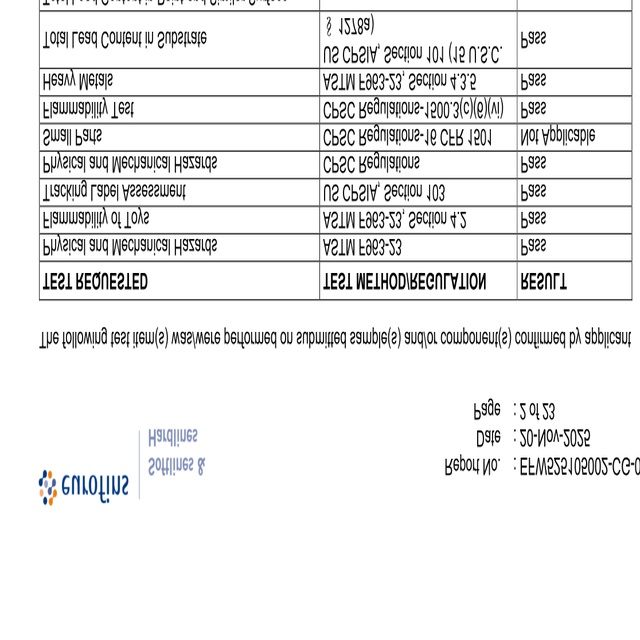eurofins: (36, 467, 133, 507)
